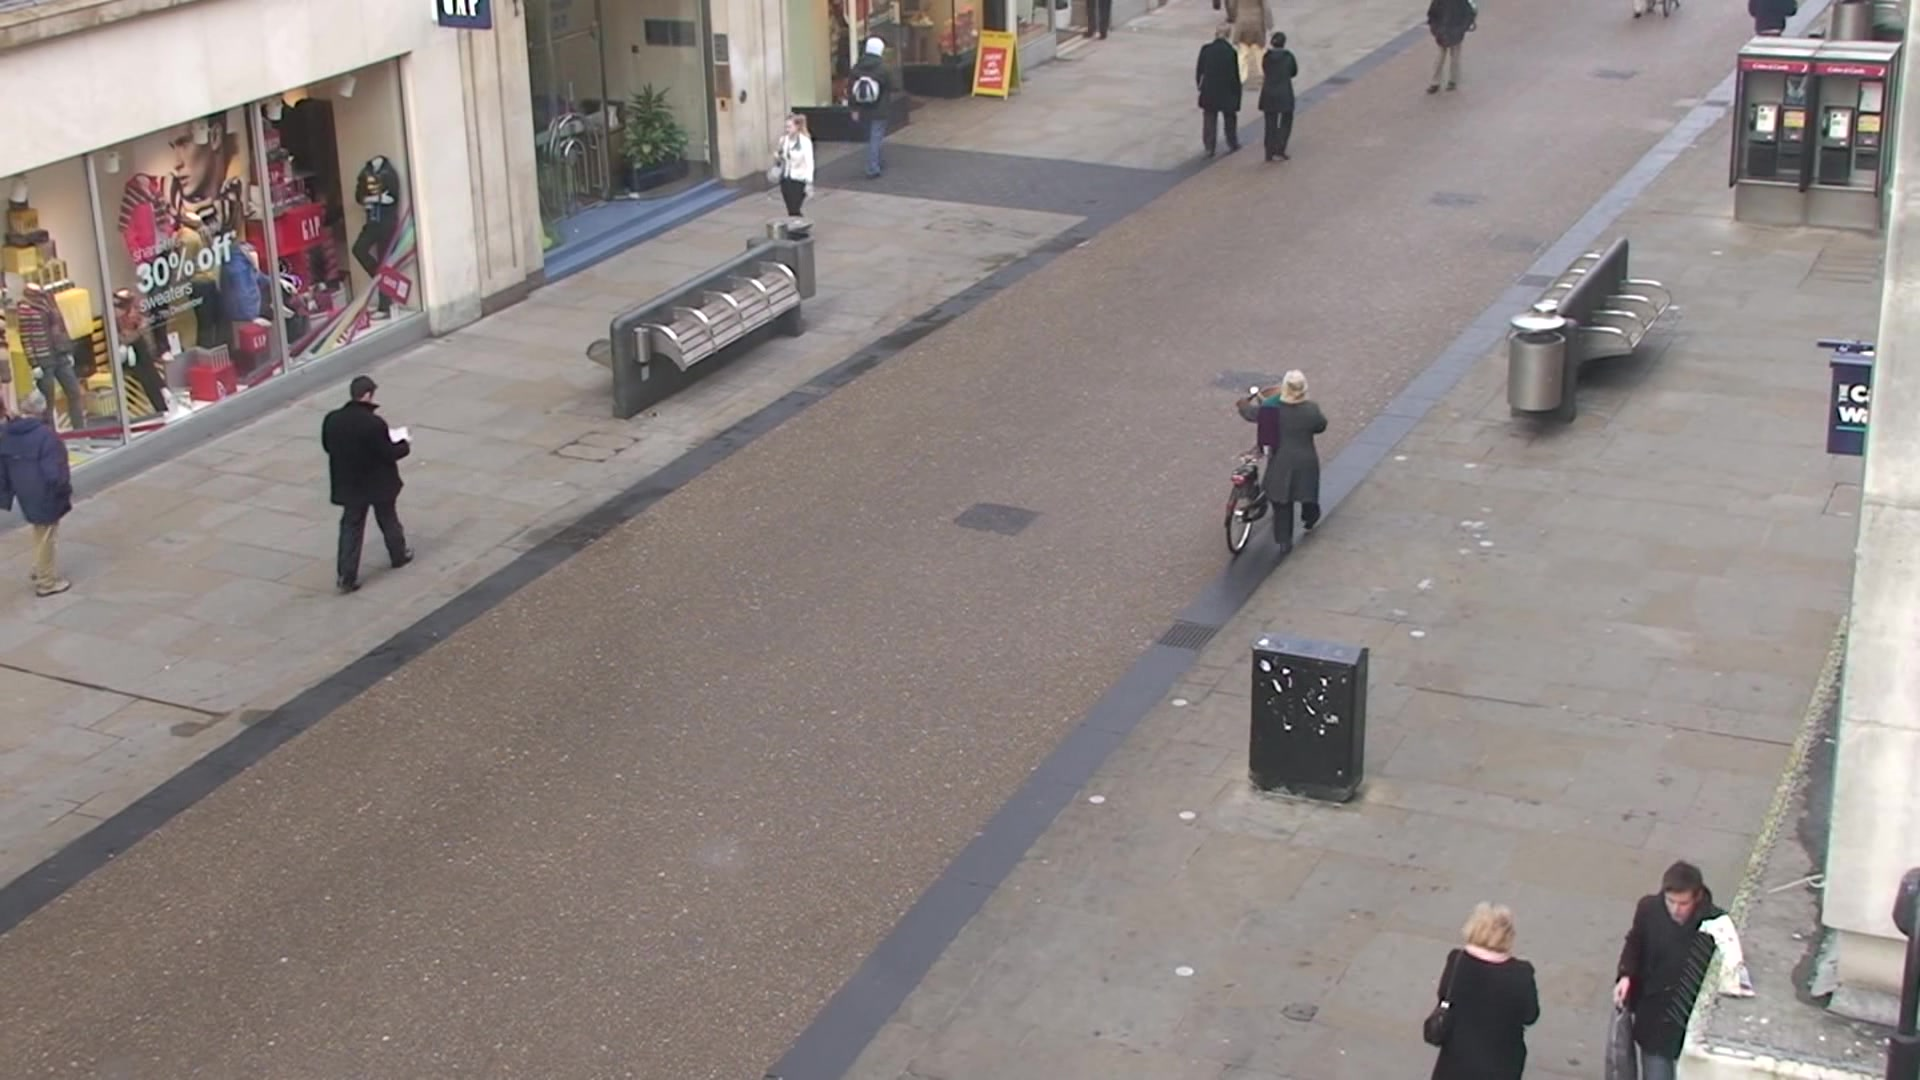person: (320, 375, 415, 593), (1237, 366, 1328, 556), (1, 386, 74, 598), (843, 35, 896, 180), (1195, 24, 1246, 163), (1257, 33, 1297, 163), (768, 113, 816, 222)
